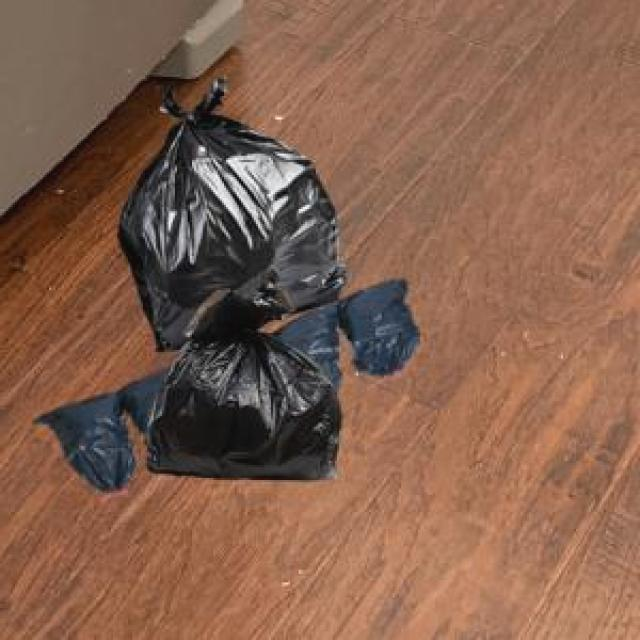Trashbag: (120, 122, 341, 325), (145, 335, 348, 483), (48, 392, 140, 492), (339, 284, 431, 374)
